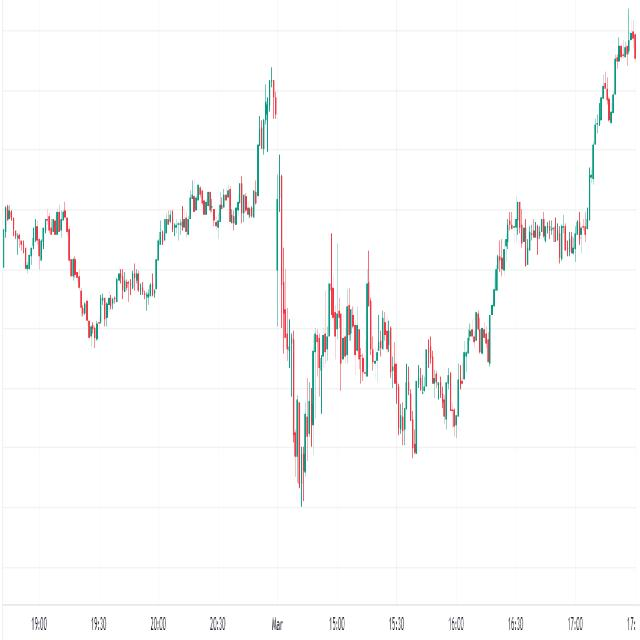Rounding-Top: (307, 244, 404, 432)
rectangle: (185, 170, 262, 239)
